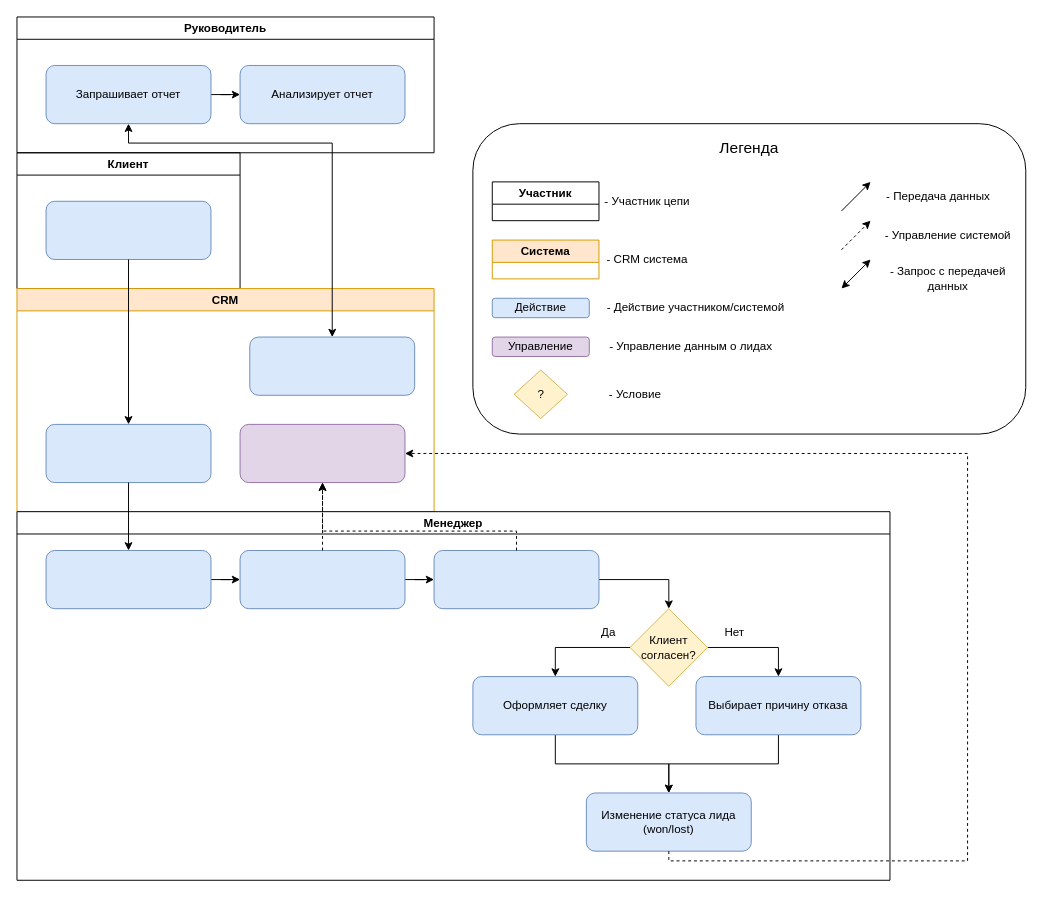
Image size: 1043x897. Some labels were removed from this diagram. The centre of each missing label's shape, as x and y in pixels:
"Оставляет заявку (сайт/мессенджер/соцсети)" goes at point (128, 229).
"Проверяет данные, переводит лида в статус qualified" goes at point (322, 579).
"Просматривает и управляет лидами на канбан доске" goes at point (128, 579).
"Связывается с лидом и формирует предложение (статус proposal)" goes at point (516, 579).
"Создает лида (данные, статус new, дата, источник)" goes at point (128, 453).
"Управление лидом" goes at point (322, 453).
"Формирует отчет и высчитывает KPI" goes at point (332, 365).
